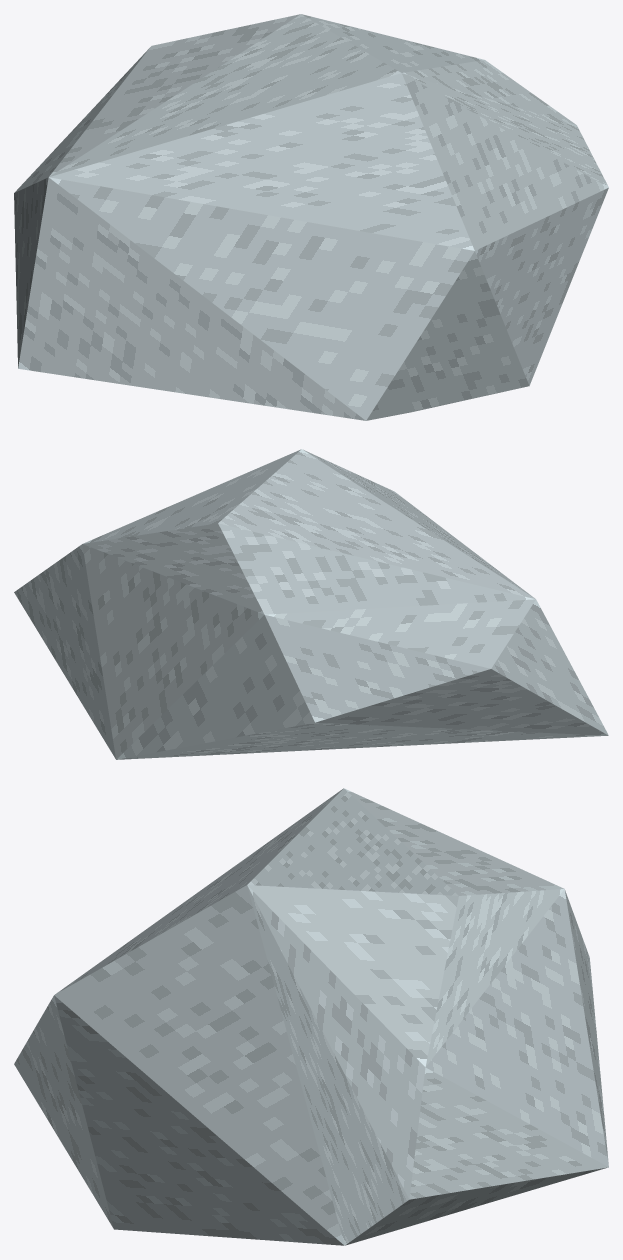
Rendered from silver_small.glb.
3 views of the same model, one above another, from view 1: azimuth 30°, elevation 25°; view 2: azimuth 150°, elevation 25°; view 3: azimuth 270°, elevation 25° (orthographic). The views are drawn at different scales.
Visible parts, largest first — view 1: block_rough fragment; view 2: block_rough fragment; view 3: block_rough fragment.
Boxes of the visible parts, x1,y1,x2,y2 form: block_rough fragment: (14, 14, 608, 420); block_rough fragment: (14, 449, 608, 759); block_rough fragment: (14, 788, 608, 1245).
Size of the model in its own units: 0.0188 by 0.00832 by 0.0144.
Materials: 1 (1 with a texture image).
